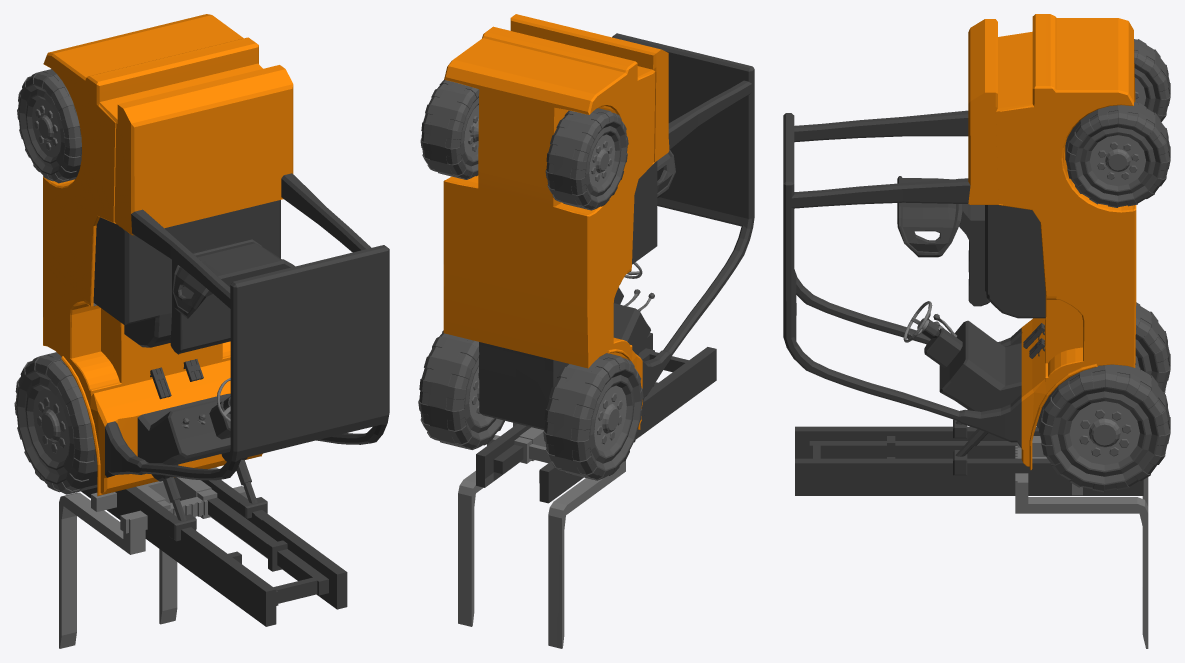
The model's file is Forklift.glb.
The picture shows the model from 3 angles, left to right: view 1: azimuth 30°, elevation 25°; view 2: azimuth 150°, elevation 25°; view 3: azimuth 270°, elevation 25°; orthographic projection. The views are drawn at different scales.
Visible parts, largest first — view 1: Forklift; view 2: Forklift; view 3: Forklift.
Part boxes in pixels (x1,y1,x2,y2): Forklift: [14, 14, 389, 648]; Forklift: [418, 14, 754, 648]; Forklift: [783, 14, 1170, 648].
Size of the model in its own units: 1.86 by 5.8 by 3.56.
1 material, 1 textured.
